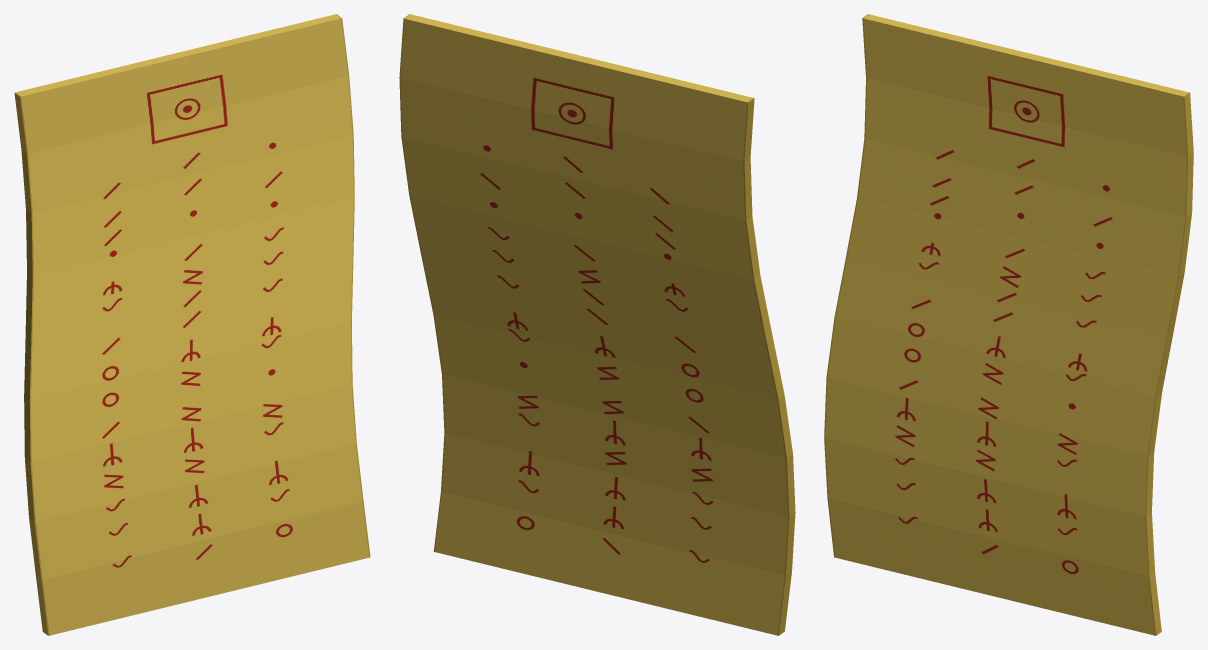
The model's file is bua-vang.glb.
3 renders of one model, left to right at view 1: azimuth 30°, elevation 25°; view 2: azimuth 150°, elevation 25°; view 3: azimuth 330°, elevation 25°, orthographic. The views are drawn at different scales.
Parts seen in each view (by area): view 1: bua; view 2: bua; view 3: bua.
Part boxes in pixels (x1=…): bua: x1=14, y1=14, x2=370, y2=635; bua: x1=399, y1=14, x2=795, y2=635; bua: x1=824, y1=14, x2=1193, y2=635.
Bounding box in the file's own units: 0.1379 × 0.2 × 0.0238.
Materials: 1 (1 with a texture image).
